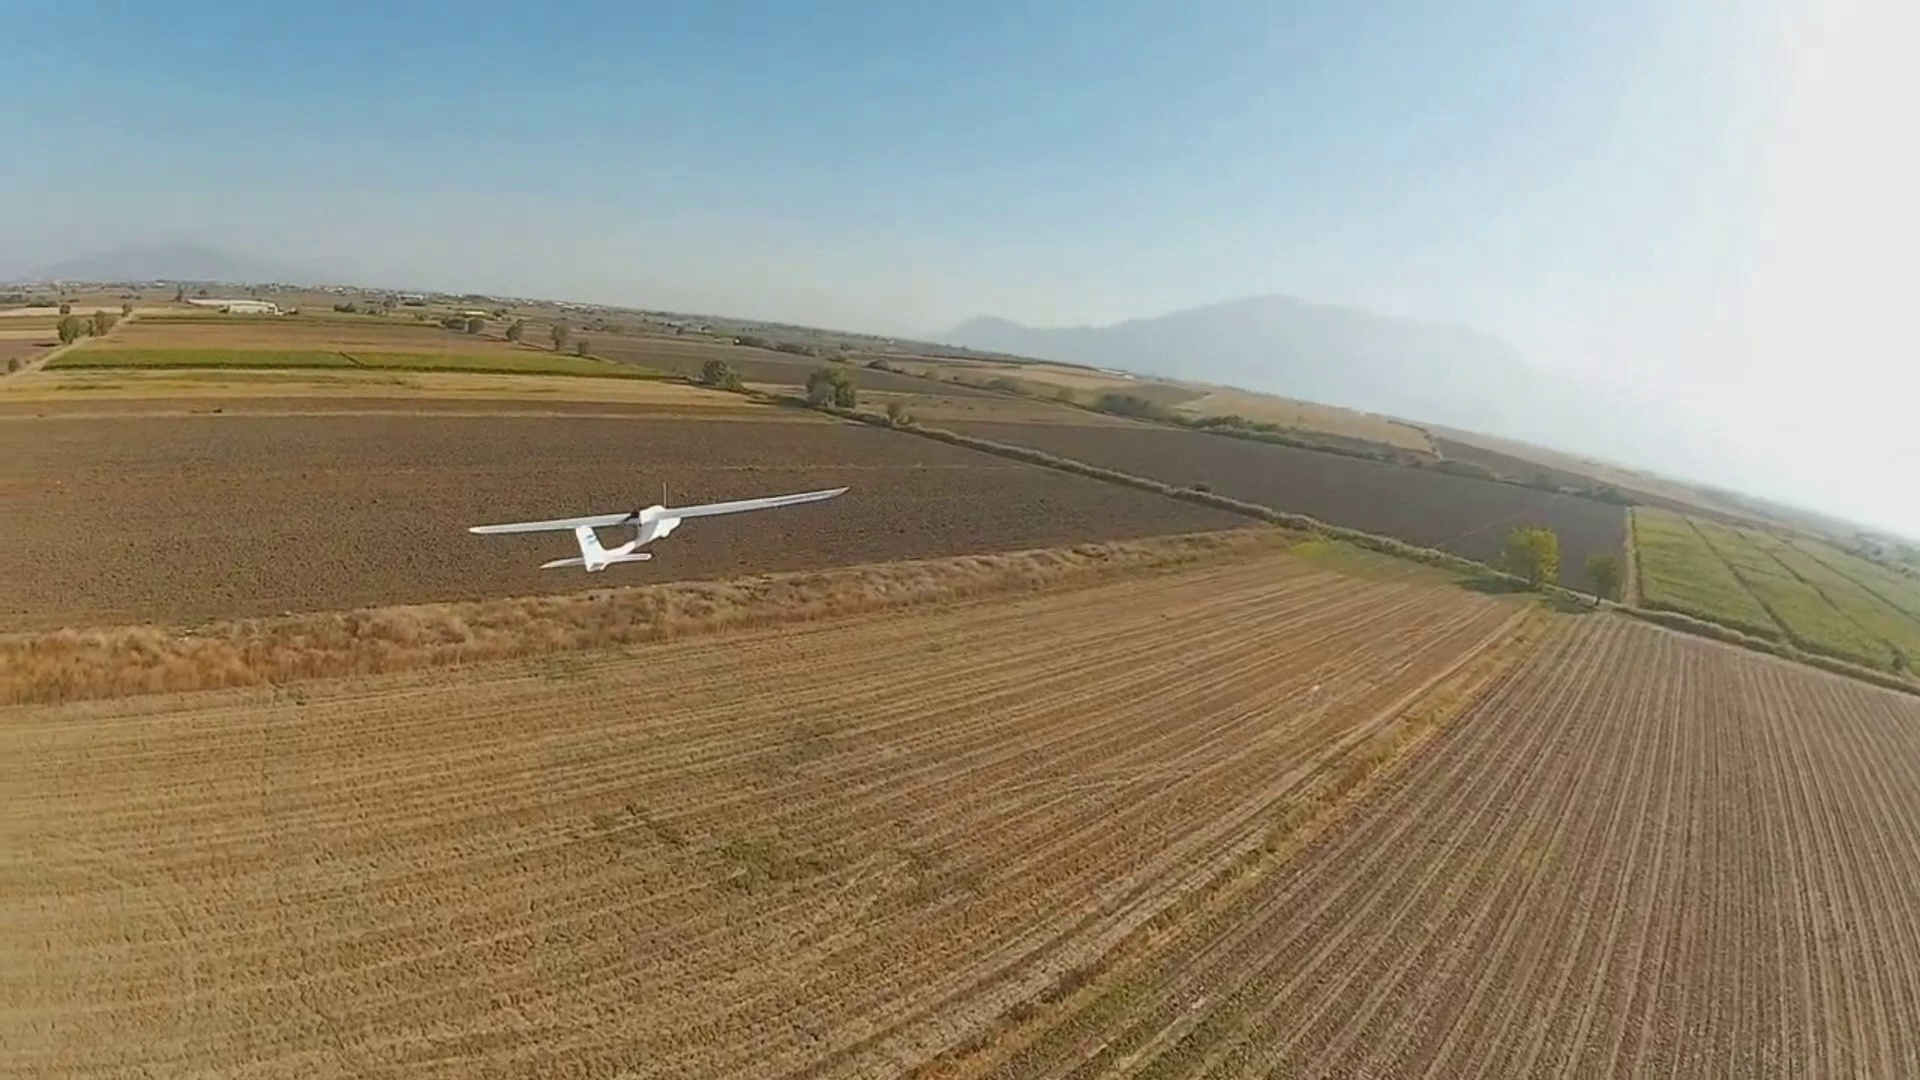airplane: (465, 485, 847, 576)
